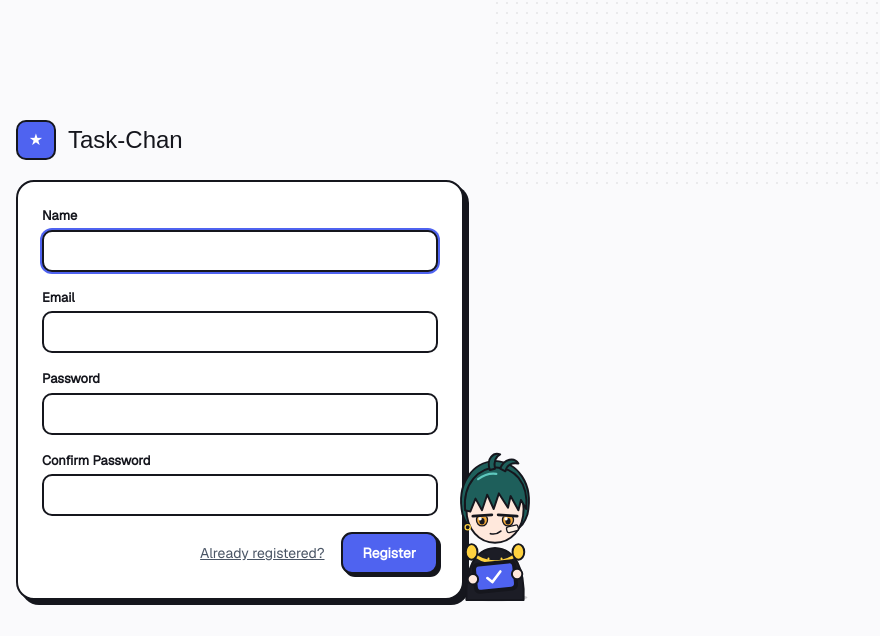
Scenario: auth forms › still shows field errors when registration is open but the input is invalid
The image size is (880, 636).
Type "Ada" into the field labelled "Name" at (240, 250), box [42,230,438,272]
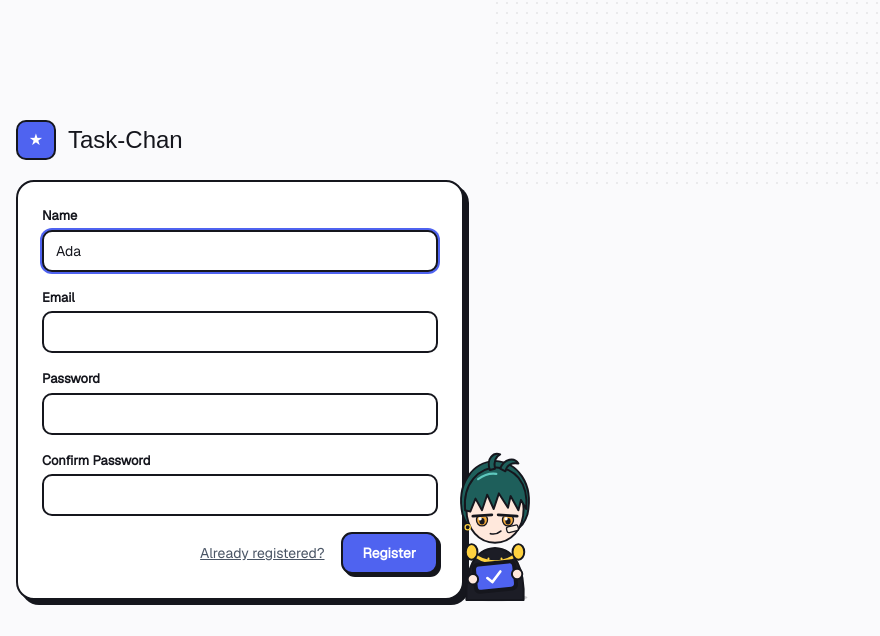
Type "ada@example.com" into the field labelled "Email" at (240, 332), box [42,311,438,353]
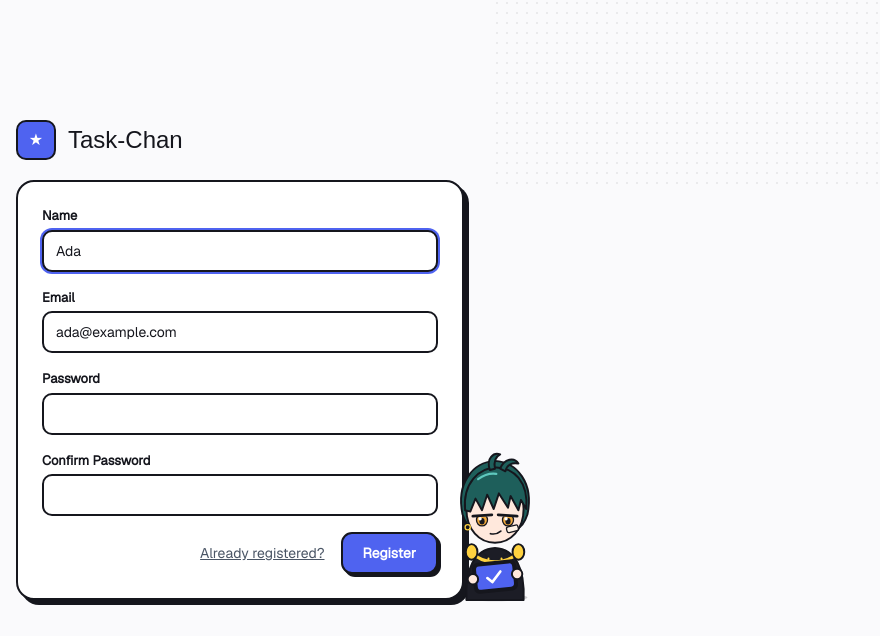
Type "password" into the password field labelled "Password" at (240, 414), box [42,392,438,434]
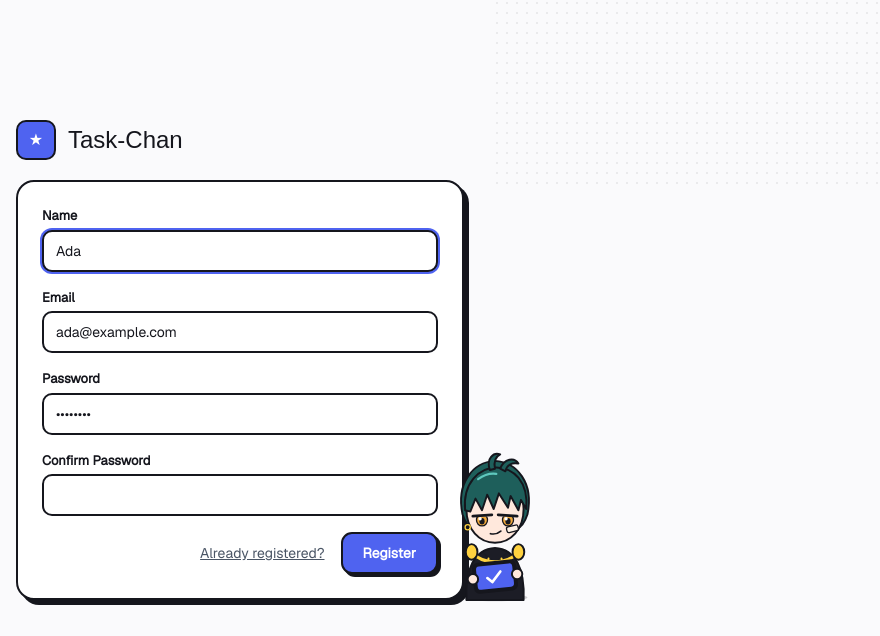
Type "password" into the password field labelled "Confirm Password" at (240, 495), box [42,474,438,516]
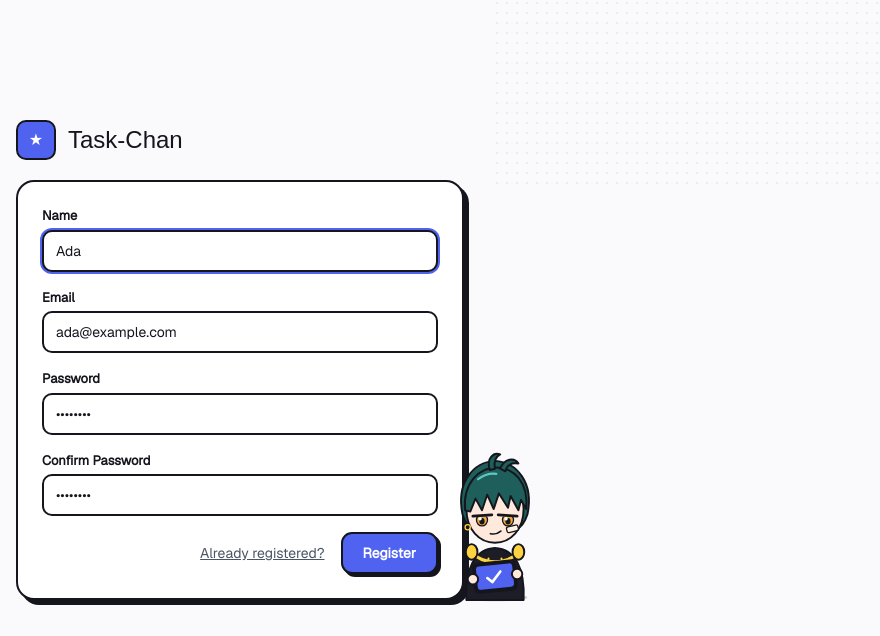
Click the button "Register" at (389, 553), box [340,532,438,574]
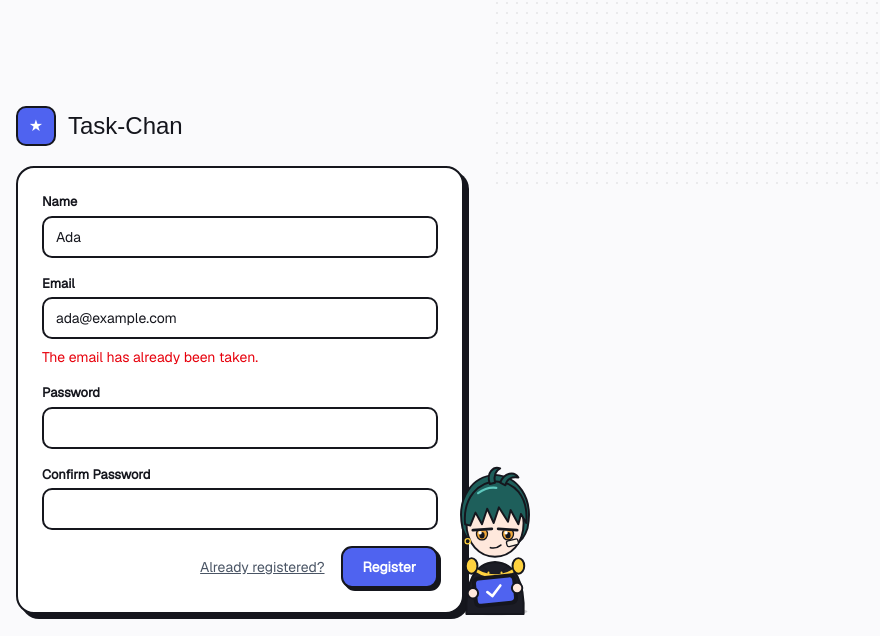
expect the field labelled "Email" is enabled: met, box [42,297,438,339]
expect the text "The email has already been taken." is shown: met, box [42,348,258,366]
